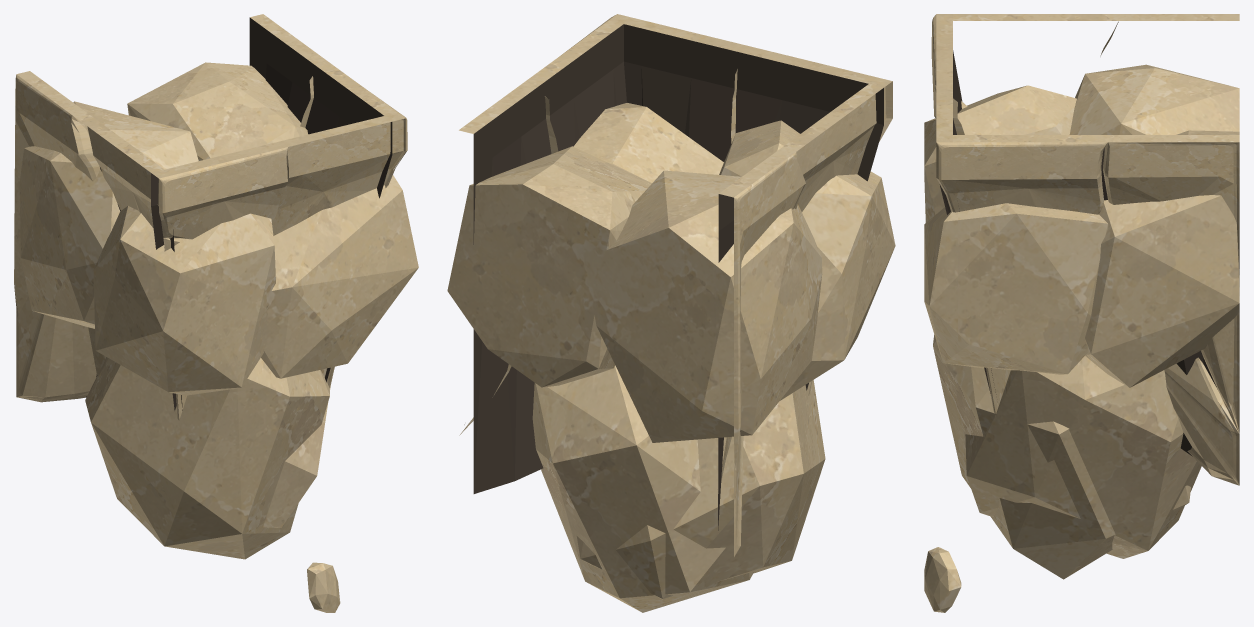
File: ground_bottom_end_04.glb
3 renders of one model, left to right at view 1: azimuth 30°, elevation 25°; view 2: azimuth 150°, elevation 25°; view 3: azimuth 270°, elevation 25°, orthographic. The views are drawn at different scales.
Parts seen in each view (by area): view 1: GroundBottomEnd04_Body; view 2: GroundBottomEnd04_Body; view 3: GroundBottomEnd04_Body.
Part boxes in pixels (x1,y1,x2,y2): GroundBottomEnd04_Body: [14, 14, 418, 612]; GroundBottomEnd04_Body: [447, 14, 895, 612]; GroundBottomEnd04_Body: [924, 14, 1239, 612].
Size of the model in its own units: 1.08 by 1.85 by 1.04.
Materials: 13 (12 with a texture image).
